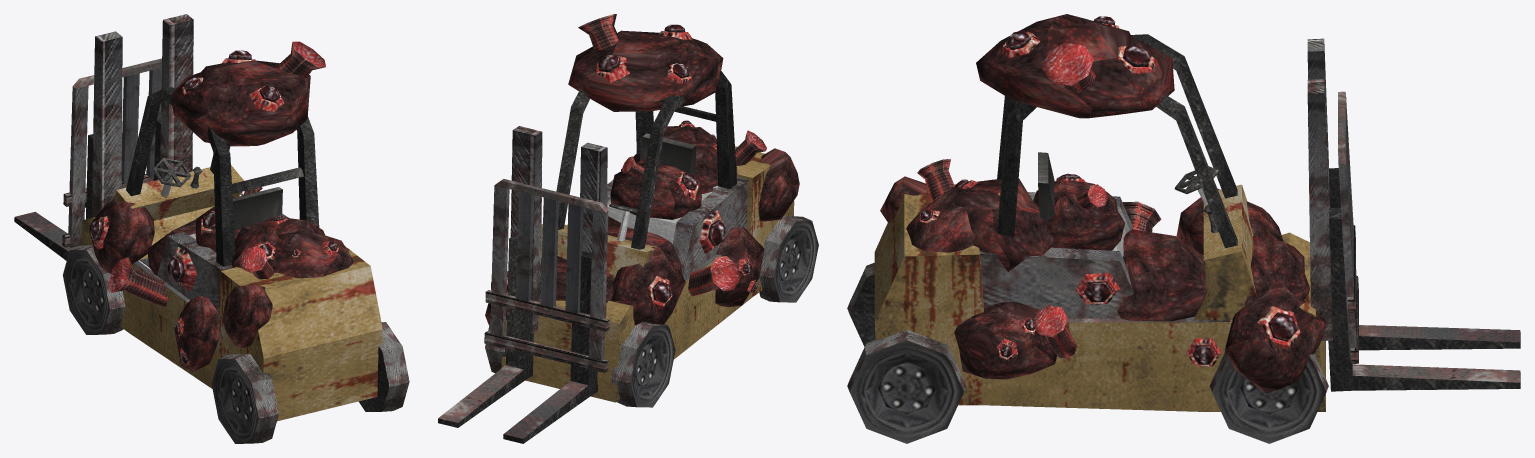
The model's file is Forklift.fbx.
The picture shows the model from 3 angles, left to right: view 1: azimuth 30°, elevation 25°; view 2: azimuth 150°, elevation 25°; view 3: azimuth 270°, elevation 25°; orthographic projection. The views are drawn at different scales.
Parts seen in each view (by area): view 1: Cube, Sphere, Cube.001, Cylinder.002, Cylinder.003, Cylinder.001; view 2: Sphere, Cube, Cube.001, Cylinder.003, Cylinder.002, Cylinder; view 3: Sphere, Cube, Cube.001, Cylinder.001, Cylinder, Cylinder.002.
Part boxes in pixels (<box>): Cube: <box>81,14,382,421</box>; Sphere: <box>89,41,353,371</box>; Cube.001: <box>14,58,161,260</box>; Cylinder.002: <box>211,354,278,443</box>; Cylinder.003: <box>63,245,125,334</box>; Cylinder.001: <box>358,322,409,411</box>; Sphere: <box>485,14,799,324</box>; Cube: <box>501,71,794,402</box>; Cube.001: <box>438,179,609,443</box>; Cylinder.003: <box>610,322,675,407</box>; Cylinder.002: <box>759,216,818,302</box>; Cylinder: <box>485,319,506,373</box>; Sphere: <box>880,14,1326,393</box>; Cube: <box>874,34,1333,411</box>; Cube.001: <box>1328,91,1520,391</box>; Cylinder.001: <box>847,329,966,443</box>; Cylinder: <box>1210,352,1328,443</box>; Cylinder.002: <box>847,262,875,346</box>.
Bounding box in the file's own units: 223 × 342 × 537.
